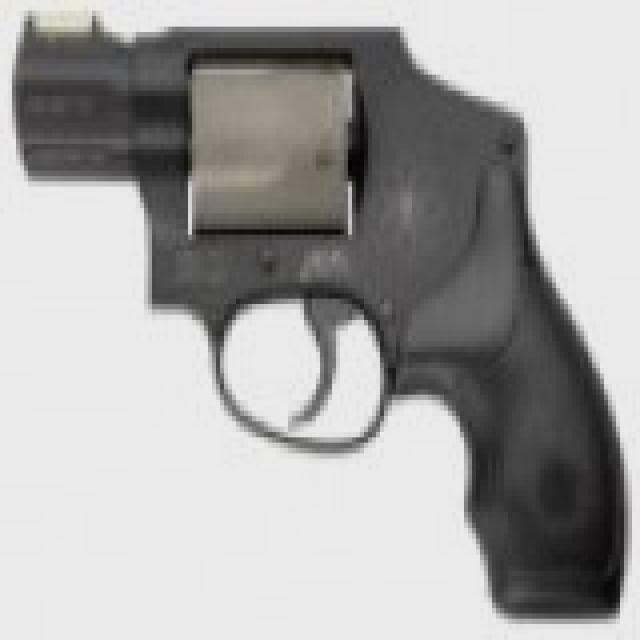pistol: (20, 6, 632, 614)
